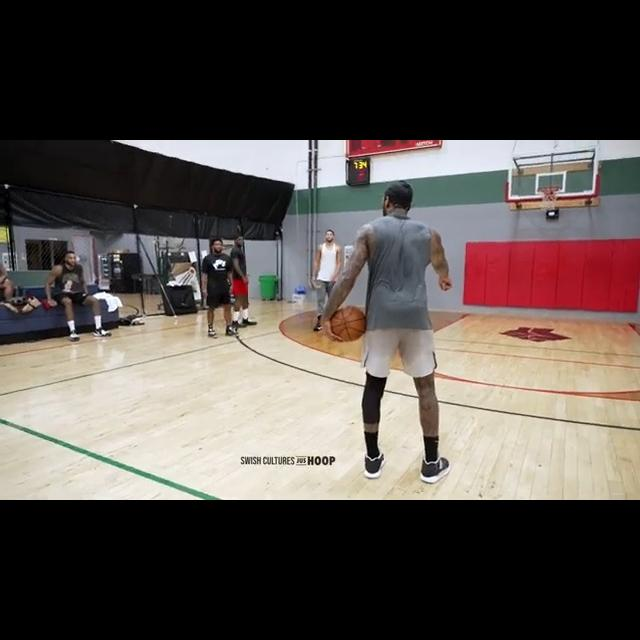basketball: (328, 305, 367, 342)
hoop: (536, 185, 561, 214)
person: (321, 179, 458, 486), (45, 251, 114, 341), (196, 238, 239, 339), (220, 233, 260, 327), (313, 220, 343, 334), (0, 247, 18, 313)
